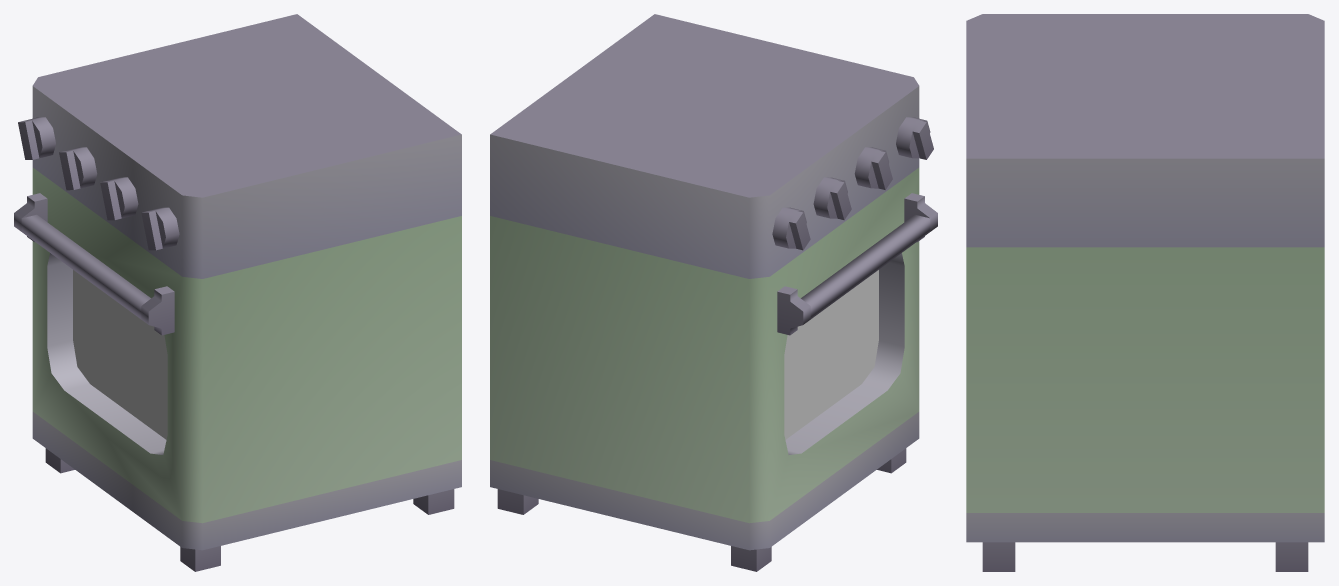
File: oven.glb
3 views of the same model, side by side, from view 1: azimuth 30°, elevation 25°; view 2: azimuth 150°, elevation 25°; view 3: azimuth 270°, elevation 25° (orthographic). The views are drawn at different scales.
Visible parts, largest first — view 1: oven; view 2: oven; view 3: oven.
Part boxes in pixels (x1,y1,x2,y2): oven: (14, 14, 461, 571); oven: (490, 14, 937, 571); oven: (966, 14, 1324, 571).
Bounding box in the file's own units: 0.575 × 0.7 × 0.55.
